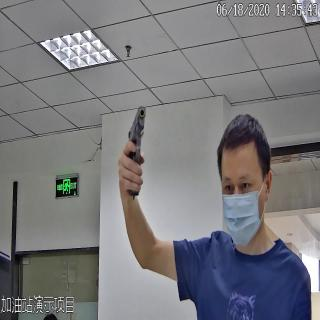gun: (118, 107, 150, 197)
